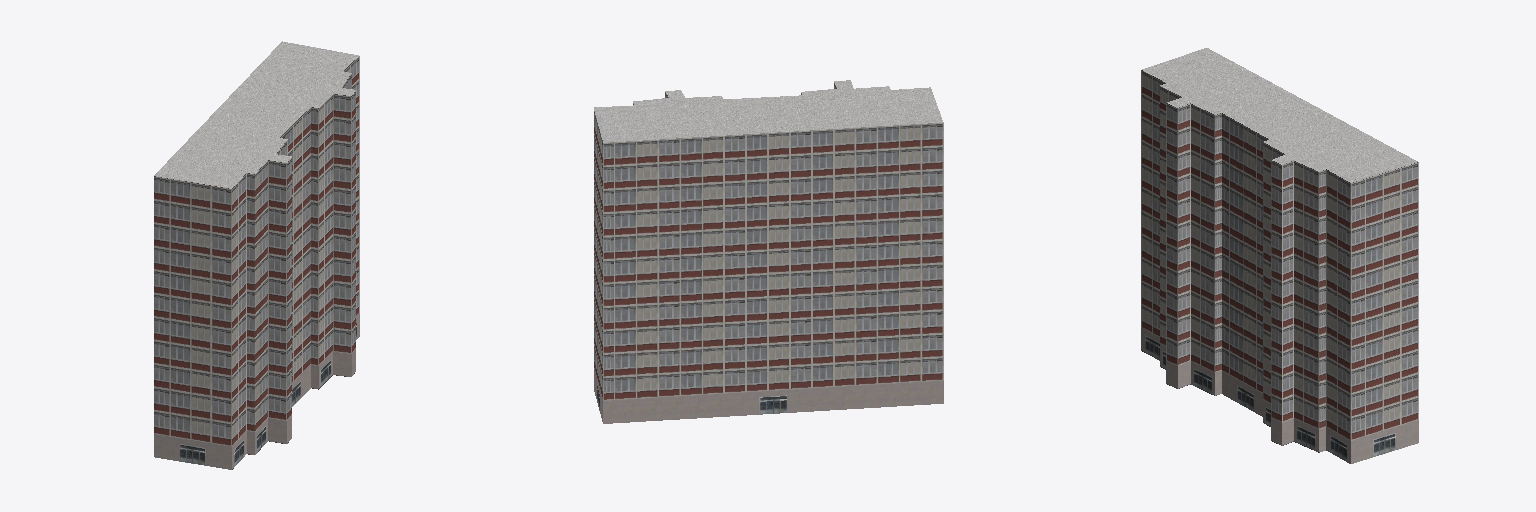
The picture shows the model from 3 angles: view 1: azimuth 30°, elevation 25°; view 2: azimuth 150°, elevation 25°; view 3: azimuth 270°, elevation 25°; orthographic projection.
Parts seen in each view (by area): view 1: BuildingMaster_[number redacted]_0, BuildingMaster_[number redacted]_1; view 2: BuildingMaster_[number redacted]_0, BuildingMaster_[number redacted]_1; view 3: BuildingMaster_[number redacted]_0, BuildingMaster_[number redacted]_1.
Part boxes in pixels (x1,y1,x2,y2): BuildingMaster_[number redacted]_0: (154, 56, 359, 469); BuildingMaster_[number redacted]_1: (154, 41, 358, 188); BuildingMaster_[number redacted]_0: (594, 83, 943, 423); BuildingMaster_[number redacted]_1: (594, 80, 943, 142); BuildingMaster_[number redacted]_0: (1141, 70, 1418, 463); BuildingMaster_[number redacted]_1: (1142, 48, 1417, 182).
Bounding box in the file's own units: 43.45 × 42 × 37.56.
2 materials, 2 textured.